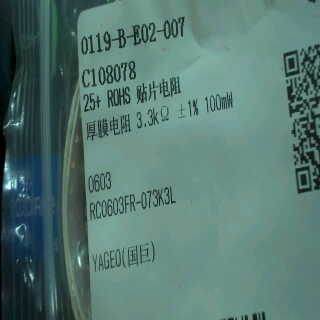3.3kO: (132, 105, 171, 132)
